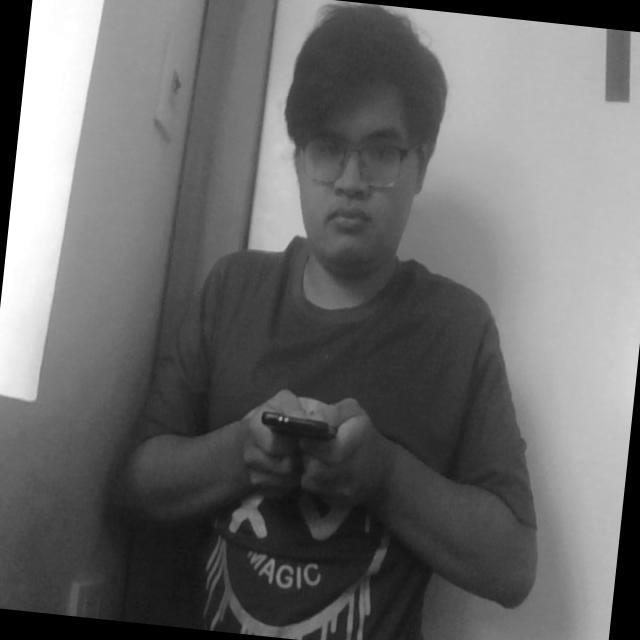phone: (250, 381, 354, 468)
